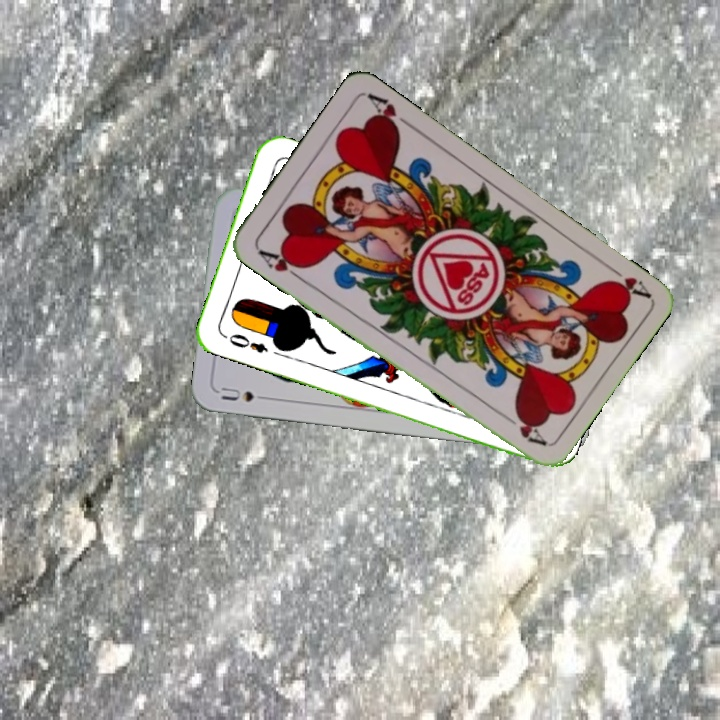EO: (225, 329, 271, 356)
HA: (600, 259, 652, 301), (254, 245, 308, 283)
SU: (217, 383, 274, 405)
